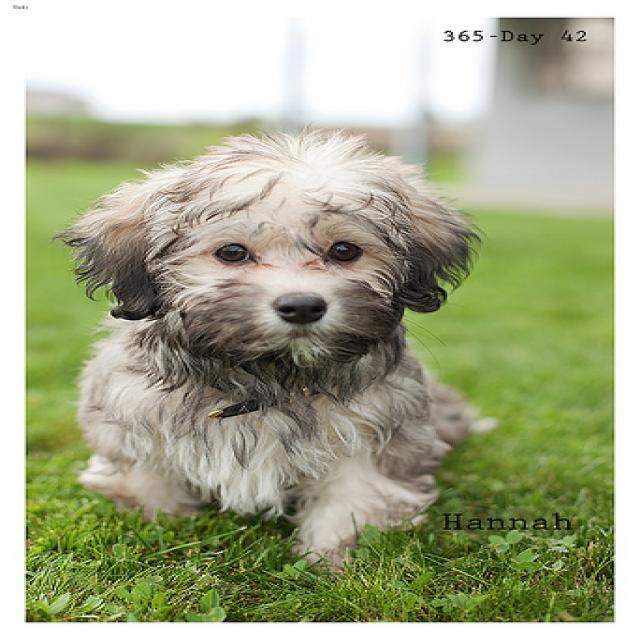dog: (71, 140, 462, 352)
